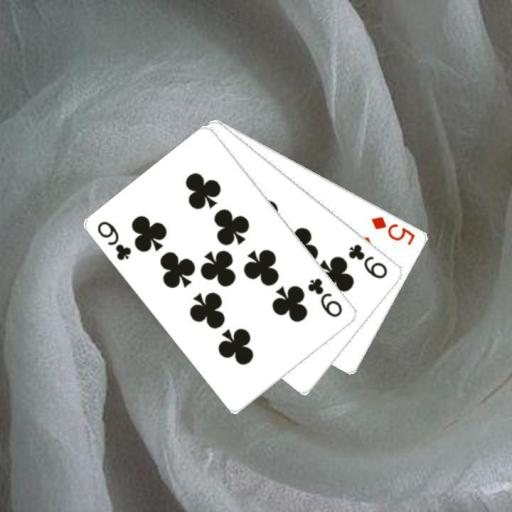5D: (369, 213, 418, 247)
9C: (304, 275, 345, 320), (346, 240, 390, 281), (94, 218, 134, 263)
